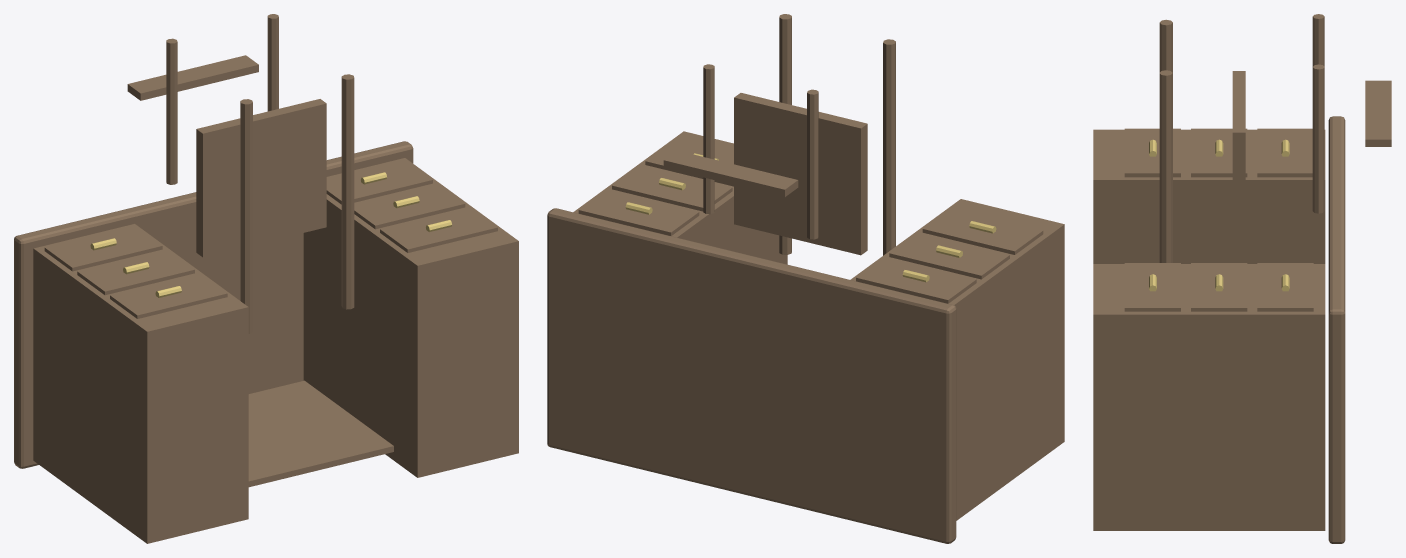
The model's file is furniture_ranger_desk.glb.
3 renders of one model, left to right at view 1: azimuth 30°, elevation 25°; view 2: azimuth 150°, elevation 25°; view 3: azimuth 270°, elevation 25°, orthographic. The views are drawn at different scales.
Visible parts, largest first — view 1: Furniture_RangerDesk; view 2: Furniture_RangerDesk; view 3: Furniture_RangerDesk.
Part boxes in pixels (box(x1,y1,x2,y2)): Furniture_RangerDesk: box(14, 14, 518, 543); Furniture_RangerDesk: box(547, 14, 1064, 543); Furniture_RangerDesk: box(1093, 14, 1391, 543).
Size of the model in its own units: 1.4 by 1.35 by 0.9.
